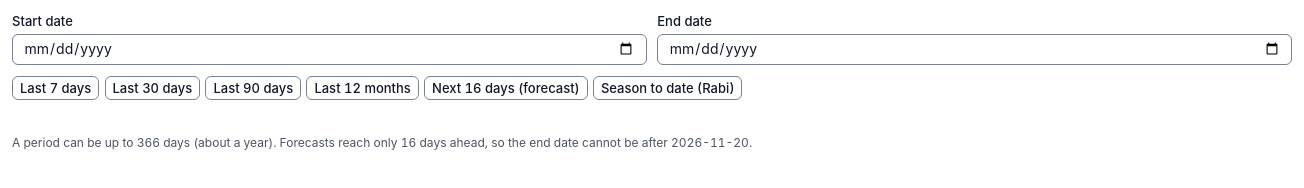
DateRangeField › keeps the start and end dates independent
Type "2026-10-01" into the date field labelled "Start date". click: {"x": 329, "y": 49}
box: left=12, top=34, right=647, bottom=65
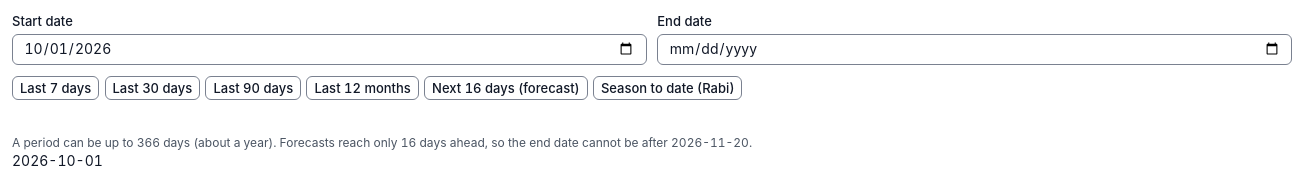
Expected: the text with test id "start" reads "2026-10-01", left=12, top=152, right=103, bottom=169
Type "2026-10-20" into the date field labelled "End date". click: {"x": 975, "y": 49}
box: left=657, top=34, right=1292, bottom=65
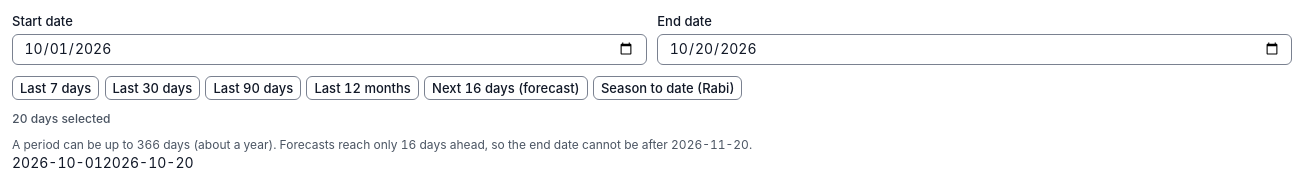
Expected: the text with test id "start" reads "2026-10-01", left=12, top=154, right=103, bottom=171
Expected: the text with test id "end" reads "2026-10-20", left=103, top=154, right=194, bottom=171
